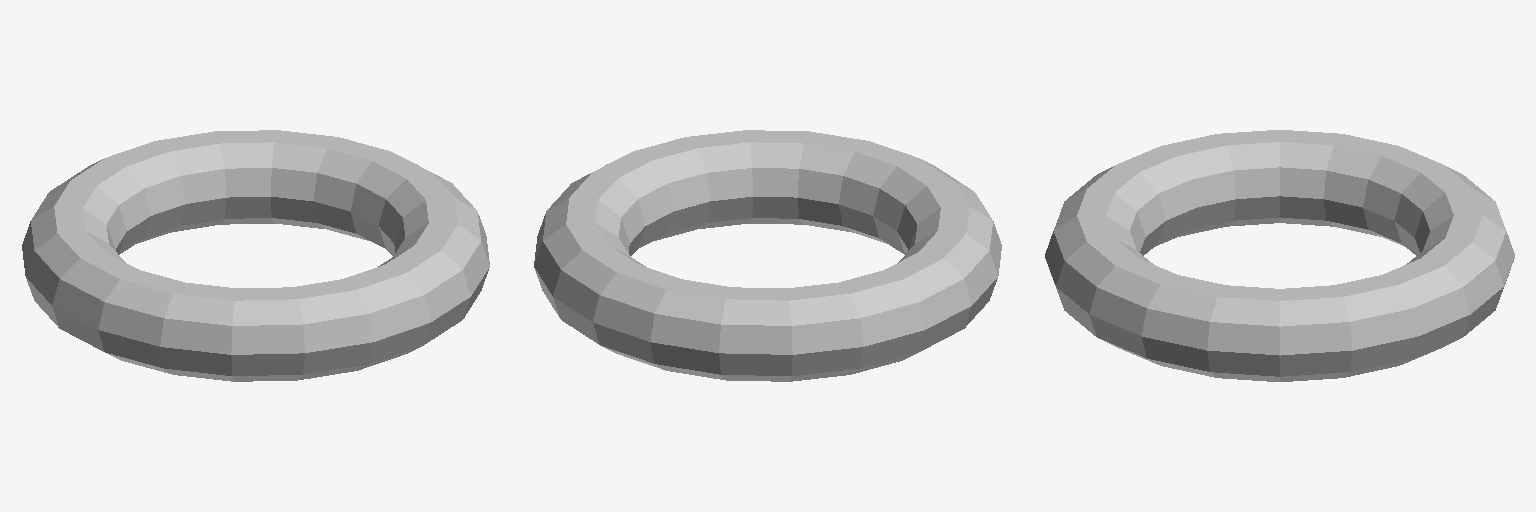
The model's file is ColorChanger.obj.
The picture shows the model from 3 angles: view 1: azimuth 30°, elevation 25°; view 2: azimuth 150°, elevation 25°; view 3: azimuth 270°, elevation 25°; orthographic projection.
Visible parts, largest first — view 1: Torus; view 2: Torus; view 3: Torus.
Boxes of the visible parts, <box> form: Torus: <box>22,130,489,381</box>; Torus: <box>534,130,1001,381</box>; Torus: <box>1045,130,1514,381</box>.
Bounding box in the file's own units: 2.5 × 0.4755 × 2.5.